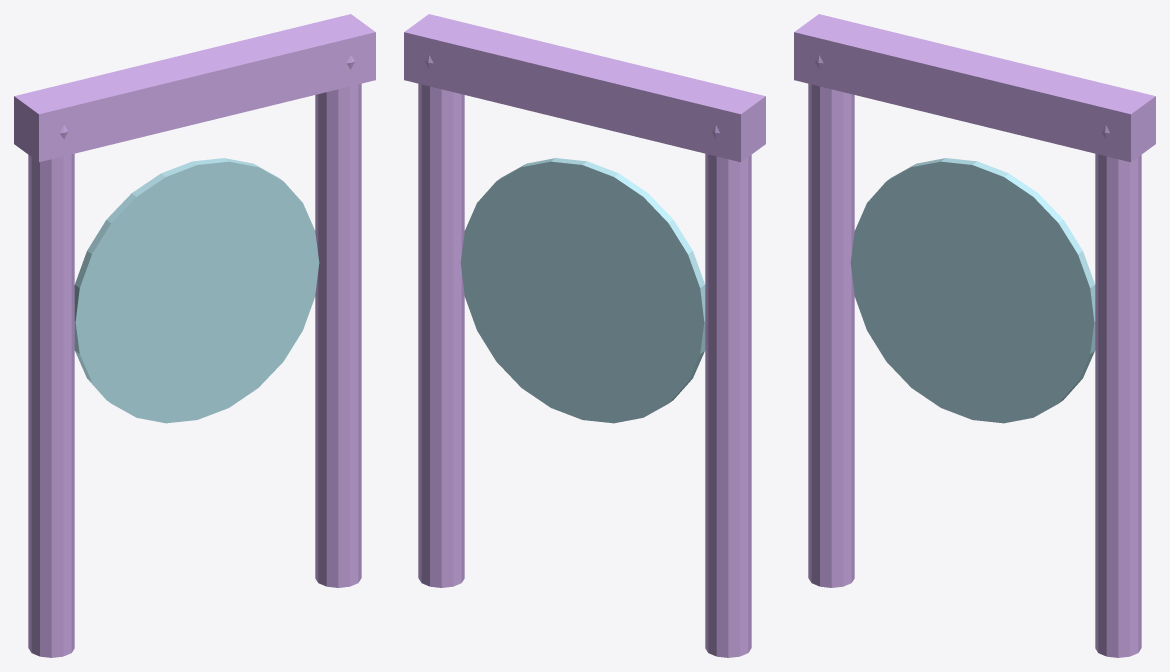
File: goal_gate.glb
3 views of the same model, side by side, from view 1: azimuth 30°, elevation 25°; view 2: azimuth 150°, elevation 25°; view 3: azimuth 330°, elevation 25° (orthographic).
Parts seen in each view (by area): view 1: goal_gate; view 2: goal_gate; view 3: goal_gate.
Boxes of the visible parts, x1,y1,x2,y2 form: goal_gate: (14, 14, 375, 657); goal_gate: (404, 14, 765, 657); goal_gate: (794, 14, 1155, 657).
Size of the model in its own units: 2.35 by 3.66 by 0.32.
